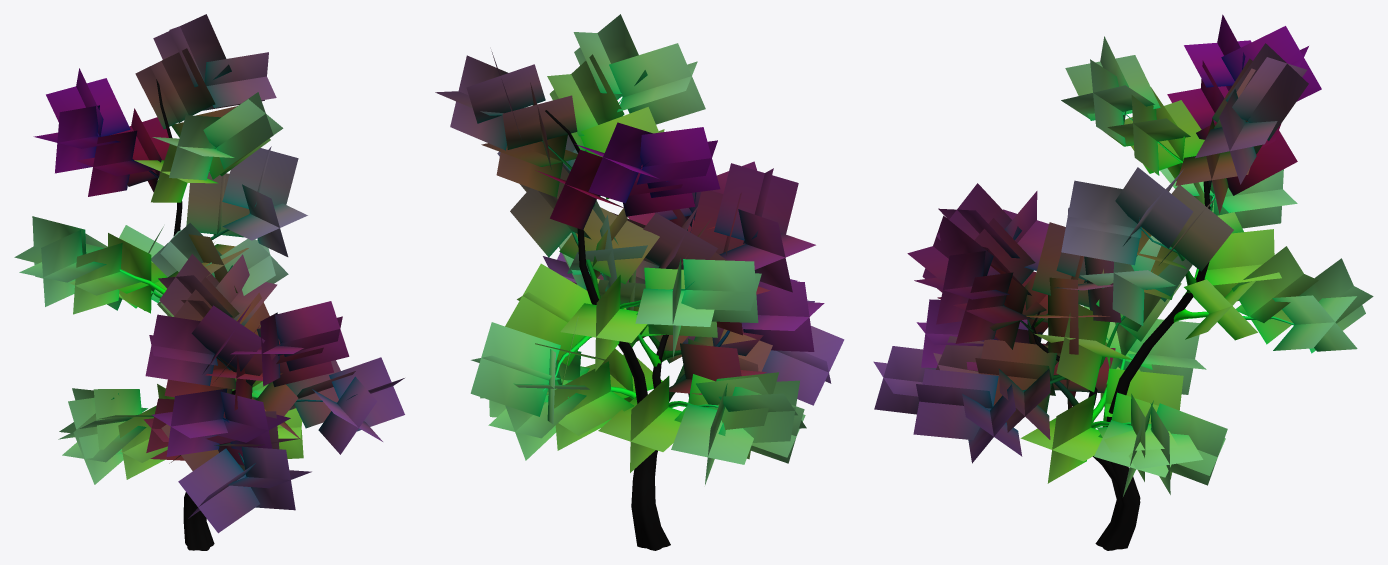
The model's file is URP_P3_Tree_6_LOD_1.fbx.
The picture shows the model from 3 angles, left to right: view 1: azimuth 30°, elevation 25°; view 2: azimuth 150°, elevation 25°; view 3: azimuth 270°, elevation 25°; orthographic projection. The views are drawn at different scales.
Visible parts, largest first — view 1: Tree_6_LOD_1; view 2: Tree_6_LOD_1; view 3: Tree_6_LOD_1.
Boxes of the visible parts, x1,y1,x2,y2 form: Tree_6_LOD_1: (14, 14, 404, 550); Tree_6_LOD_1: (435, 14, 844, 550); Tree_6_LOD_1: (873, 14, 1373, 550).
Bounding box in the file's own units: 546 × 875 × 751.
